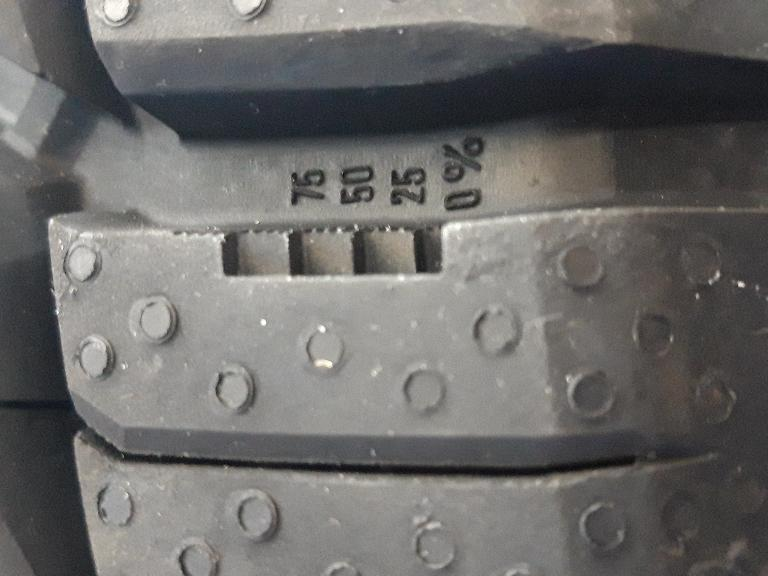temoin:100: (166, 217, 460, 284)
